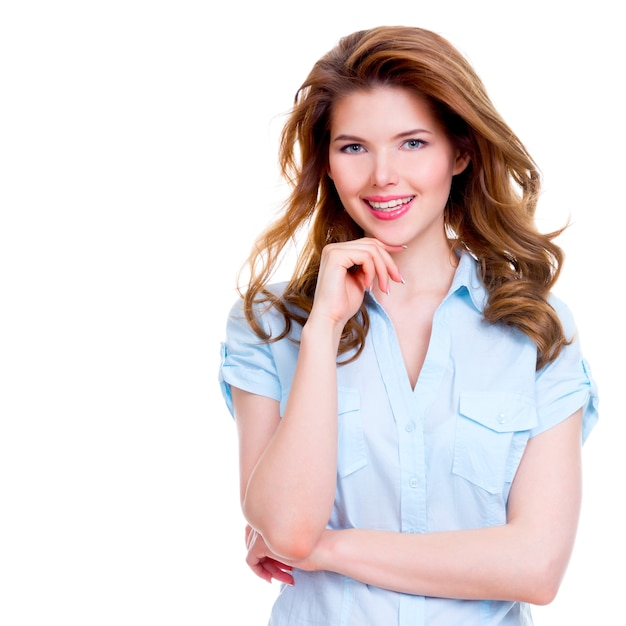young: (269, 24, 516, 272)
